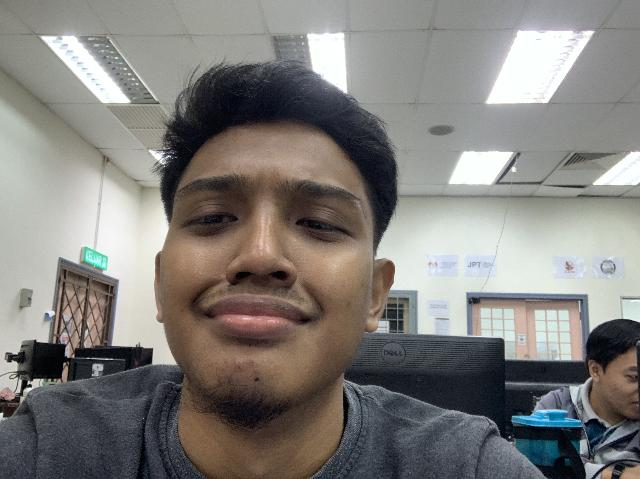senang: (128, 126, 403, 411)
